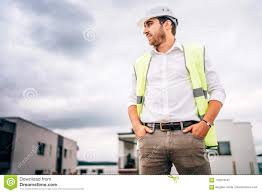helmet: (139, 3, 178, 21)
vest: (135, 47, 222, 148)
